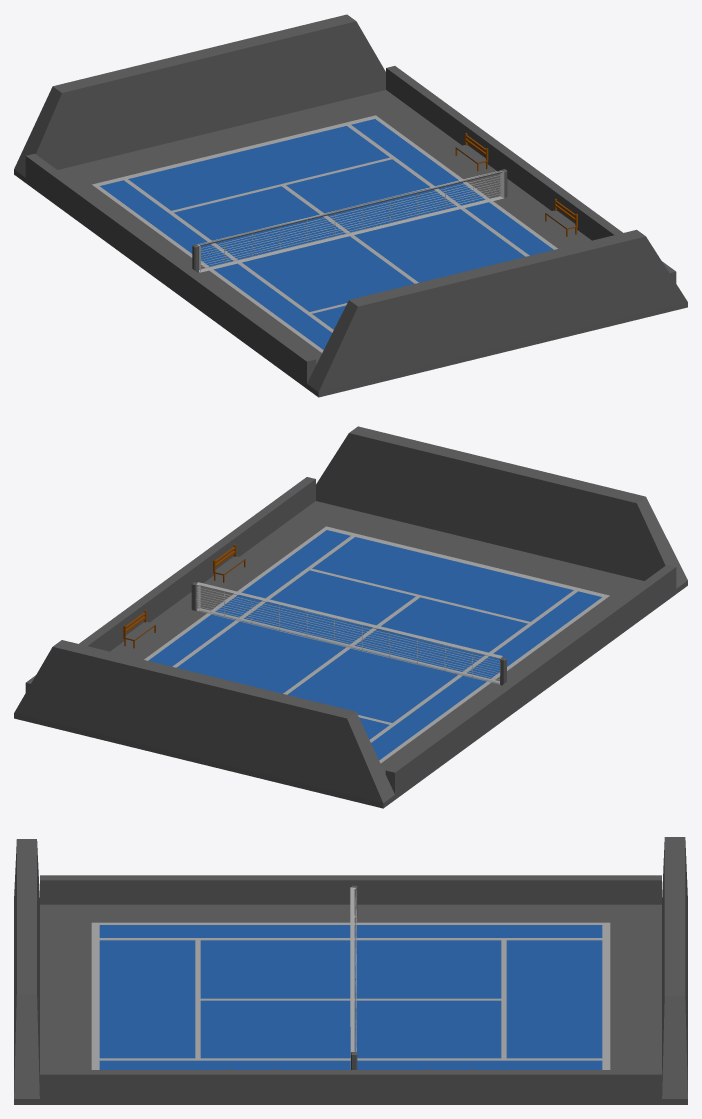
Rendered from tennis_stadium.glb.
3 renders of one model, top to bottom at view 1: azimuth 30°, elevation 25°; view 2: azimuth 150°, elevation 25°; view 3: azimuth 270°, elevation 25°, orthographic. The views are drawn at different scales.
Visible parts, largest first — view 1: TENNIS STADIUM_COLOR.017_0; view 2: TENNIS STADIUM_COLOR.017_0; view 3: TENNIS STADIUM_COLOR.017_0.
Part boxes in pixels (box(x1,y1,x2,y2)): TENNIS STADIUM_COLOR.017_0: box(14, 14, 687, 397); TENNIS STADIUM_COLOR.017_0: box(14, 426, 687, 808); TENNIS STADIUM_COLOR.017_0: box(14, 837, 687, 1104).
Bounding box in the file's own units: 3.99 × 0.8268 × 5.71.
1 material, 1 textured.
